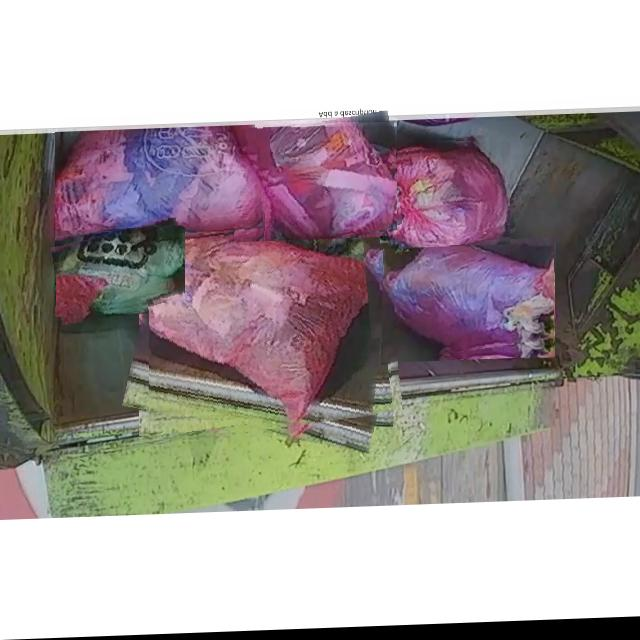general_trashbag: (57, 228, 184, 312)
other_trashbag: (149, 227, 391, 430), (55, 128, 263, 235), (383, 245, 554, 354), (238, 124, 397, 241), (380, 143, 509, 251)
